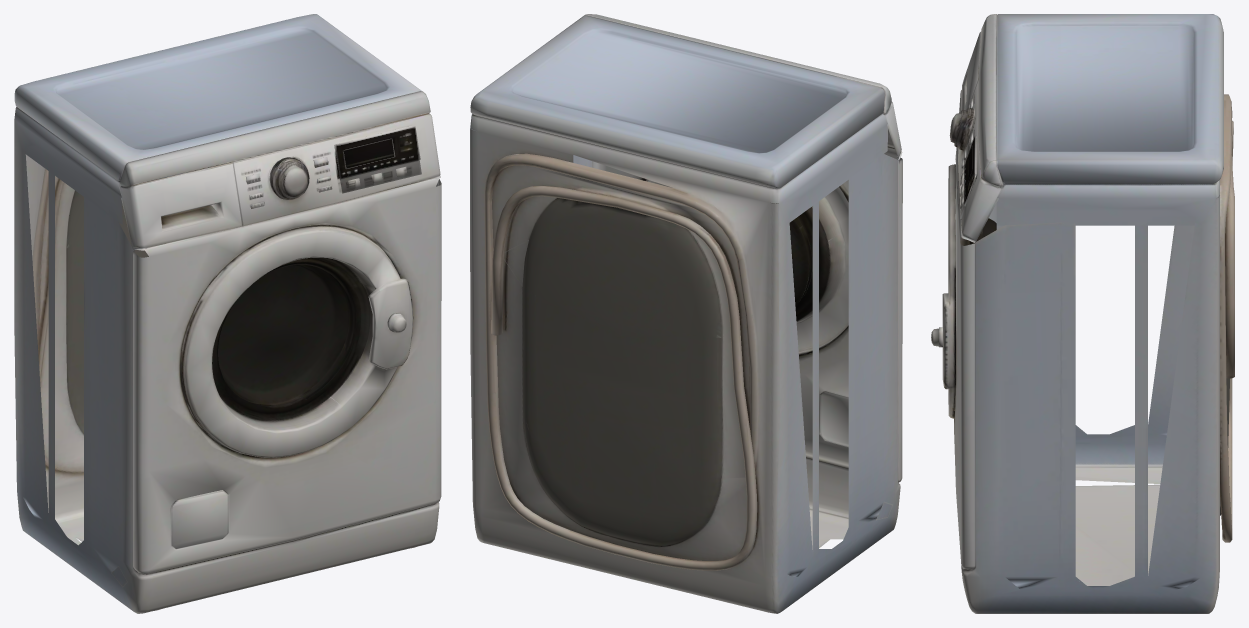
The model's file is Misc__a_dryer_39d61aff_v1.cluster.glb.
3 renders of one model, left to right at view 1: azimuth 30°, elevation 25°; view 2: azimuth 150°, elevation 25°; view 3: azimuth 270°, elevation 25°, orthographic. The views are drawn at different scales.
Parts seen in each view (by area): view 1: material; view 2: material; view 3: material.
Boxes of the visible parts, bbox=[...] form: material: bbox=[14, 14, 441, 613]; material: bbox=[470, 14, 902, 613]; material: bbox=[931, 14, 1234, 613].
Bounding box in the file's own units: 1.36 × 1.9 × 1.15.
Materials: 1 (1 with a texture image).
